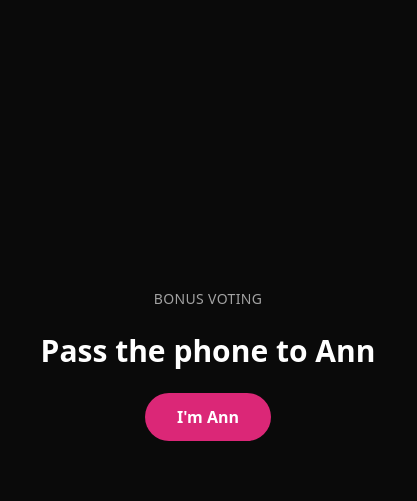
Test: VotingScreen › passes the phone voter by voter and hides each voter's own object
Later steps or results of the test are not shown.
Check: the heading "Pass the phone to Ann" is shown, box [41, 333, 376, 369]
What coordinates should you click on to do the following:
click the button "I'm Ann"
I would click on:
 (208, 417)
Its box is [145, 393, 271, 441].
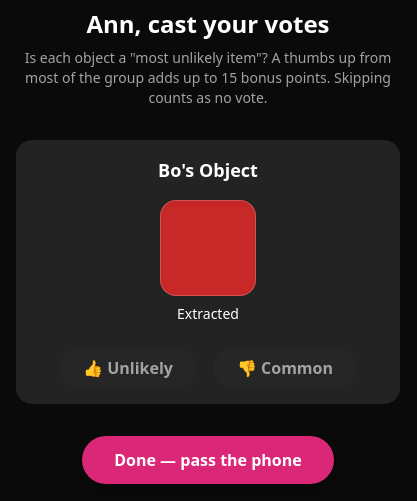
Check: the heading "Bo's Object" is shown, box [158, 156, 258, 184]
What coordinates should you click on to do the following:
click the button "👍 Unlikely"
I would click on:
 (128, 368)
Its box is [59, 348, 197, 388].
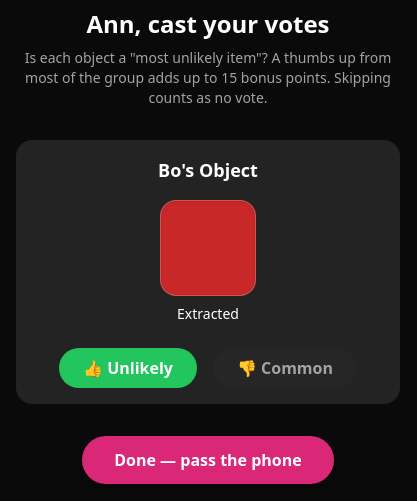
What coordinates should you click on to do the following:
click the button "Done — pass the phone"
I would click on:
 (208, 460)
Its box is [82, 436, 334, 484].
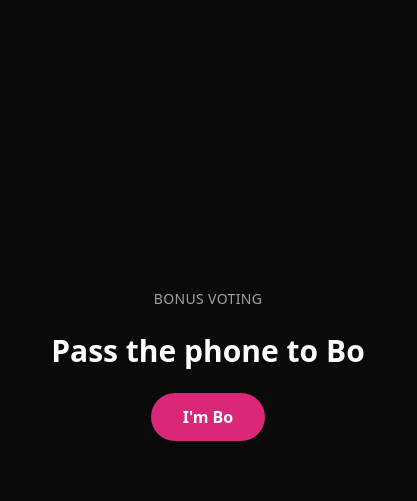
Check: the heading "Pass the phone to Bo" is shown, box [51, 333, 365, 369]
